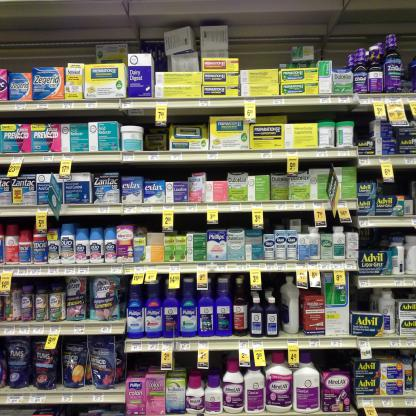Void: (358, 232, 388, 250), (176, 214, 205, 231), (147, 125, 166, 149), (221, 216, 250, 230), (324, 354, 351, 368), (355, 113, 370, 135), (353, 292, 369, 311), (396, 170, 409, 193)
